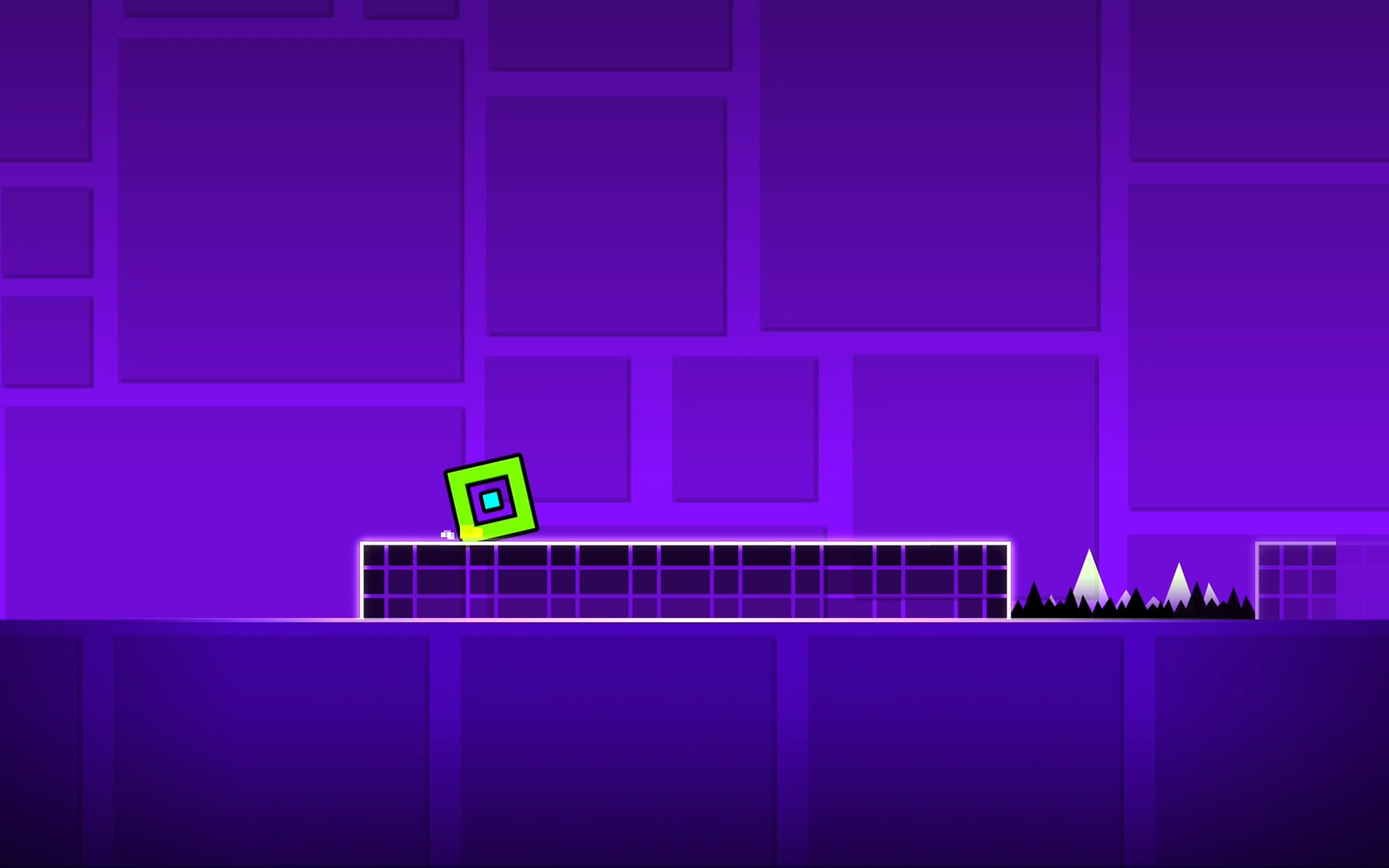Block2: (360, 538, 1011, 622), (1259, 539, 1385, 618)
Player: (445, 454, 537, 540)
Spike3: (1014, 588, 1255, 627)
